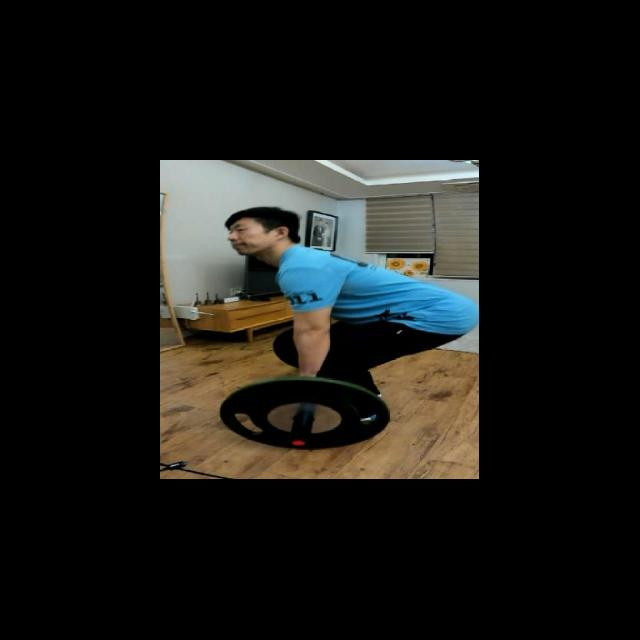barbell: (215, 373, 403, 456)
